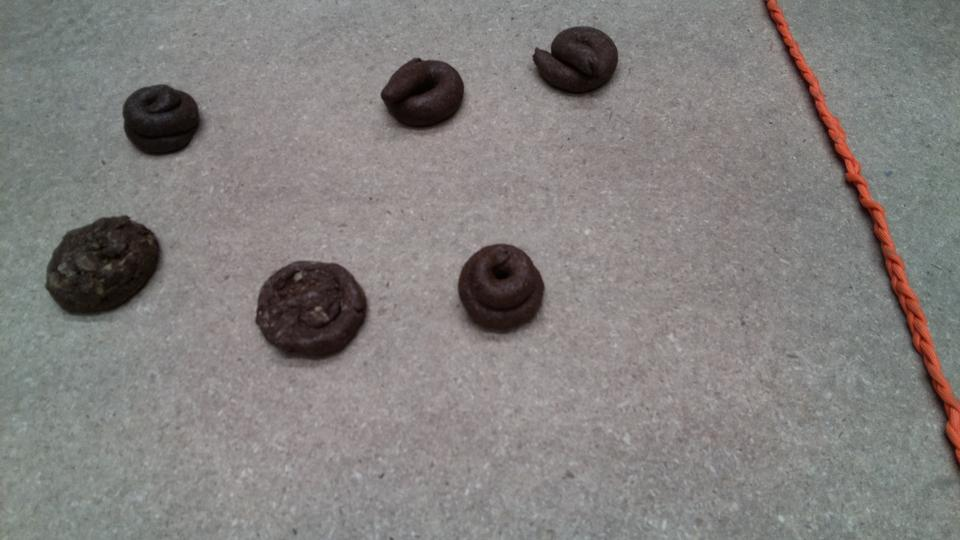poop: (39, 210, 165, 320), (251, 255, 370, 366), (454, 238, 549, 339), (529, 21, 623, 103), (116, 78, 205, 163), (378, 53, 469, 132)
rope: (772, 1, 959, 451)
